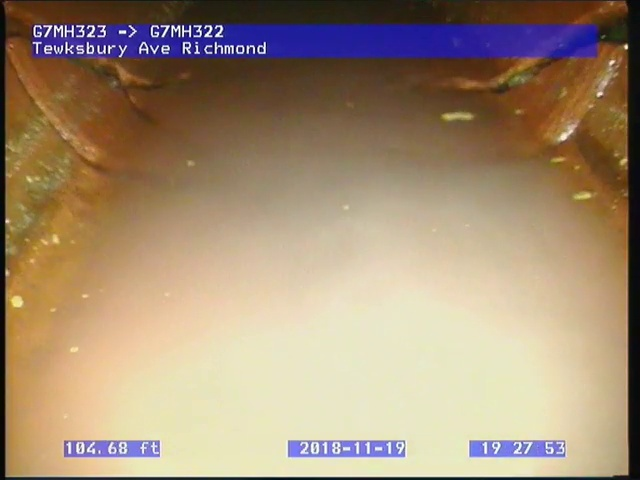crack: (8, 26, 170, 131), (457, 20, 628, 100)
